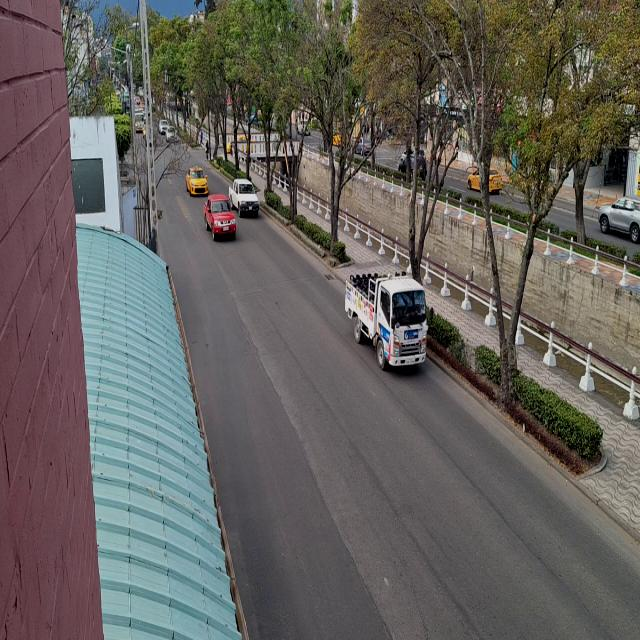CMT: (204, 194, 236, 238), (227, 177, 259, 214)
SED: (184, 164, 210, 198)
TRUCK: (342, 270, 426, 370)
